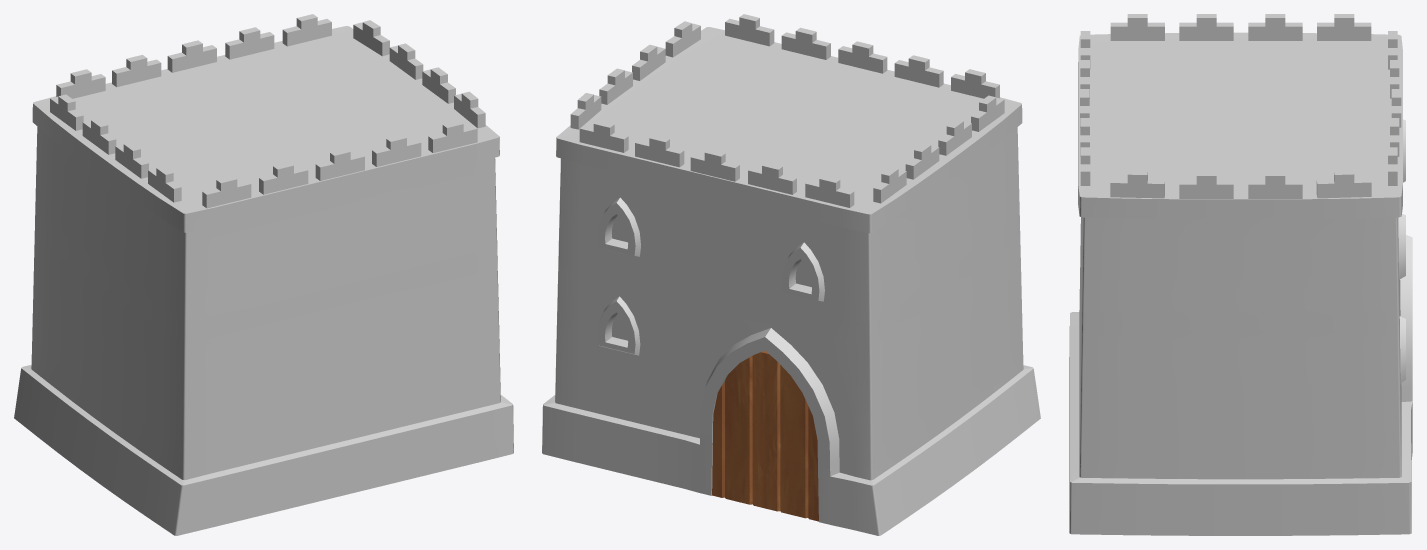
The model's file is Najdi_Base_B01.fbx.
3 renders of one model, left to right at view 1: azimuth 30°, elevation 25°; view 2: azimuth 150°, elevation 25°; view 3: azimuth 270°, elevation 25°, orthographic. The views are drawn at different scales.
Parts seen in each view (by area): view 1: Najdi_Base_B01; view 2: Najdi_Base_B01; view 3: Najdi_Base_B01.
Part boxes in pixels (box(x1,y1,x2,y2)): Najdi_Base_B01: box(14, 14, 513, 535); Najdi_Base_B01: box(542, 14, 1040, 535); Najdi_Base_B01: box(1069, 14, 1412, 535).
Size of the model in its own units: 1349 by 1101 by 1258.
